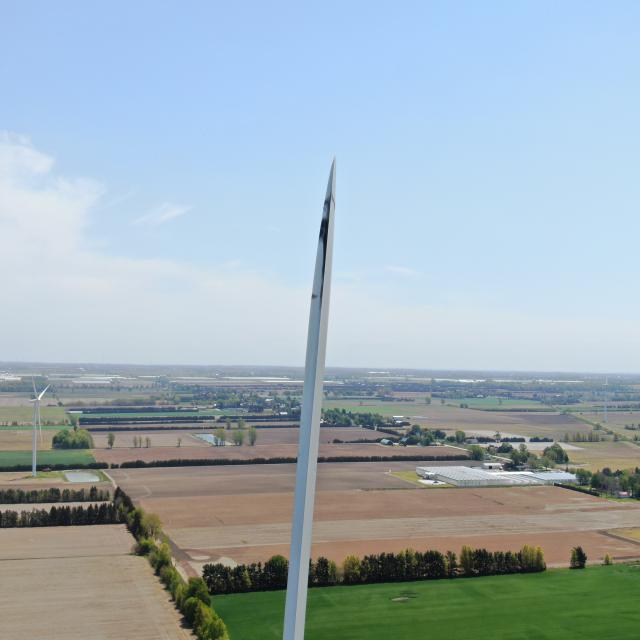damage: (311, 192, 338, 304)
